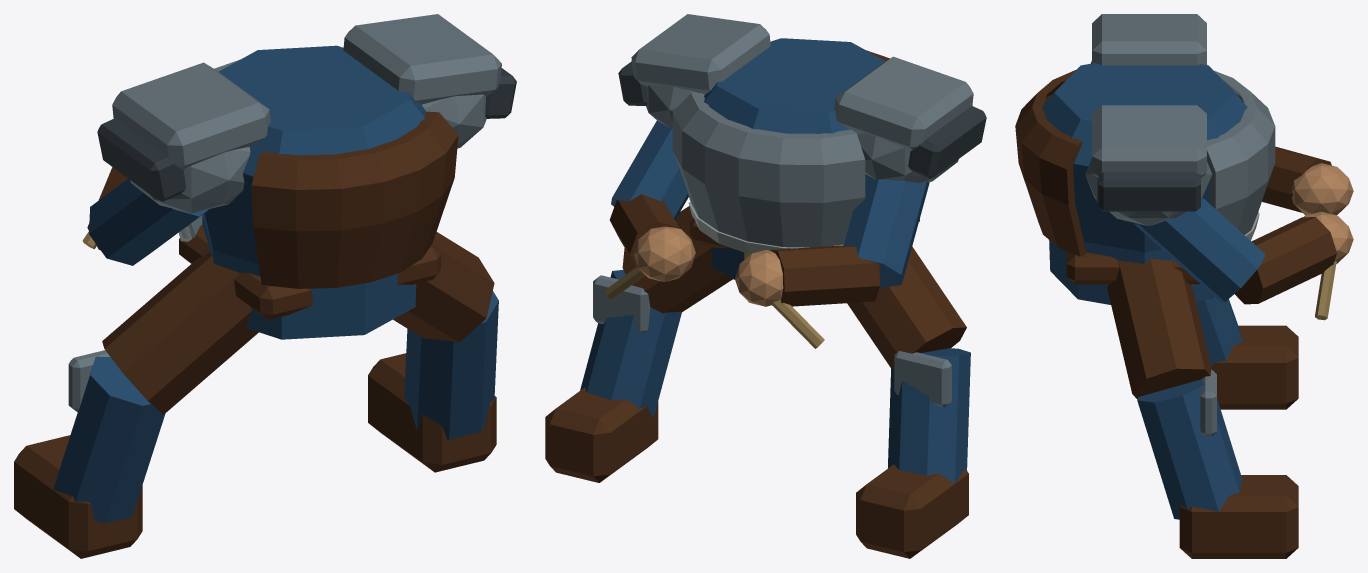
The model's file is Rider.glb.
The picture shows the model from 3 angles, left to right: view 1: azimuth 30°, elevation 25°; view 2: azimuth 150°, elevation 25°; view 3: azimuth 270°, elevation 25°; orthographic projection. The views are drawn at different scales.
Visible parts, largest first — view 1: Sculpture; view 2: Sculpture; view 3: Sculpture.
Part boxes in pixels (x1,y1,x2,y2): Sculpture: (14,14,516,558); Sculpture: (545,14,986,558); Sculpture: (1015,14,1353,558).
Bounding box in the file's own units: 1.04 × 1.08 × 0.824.
